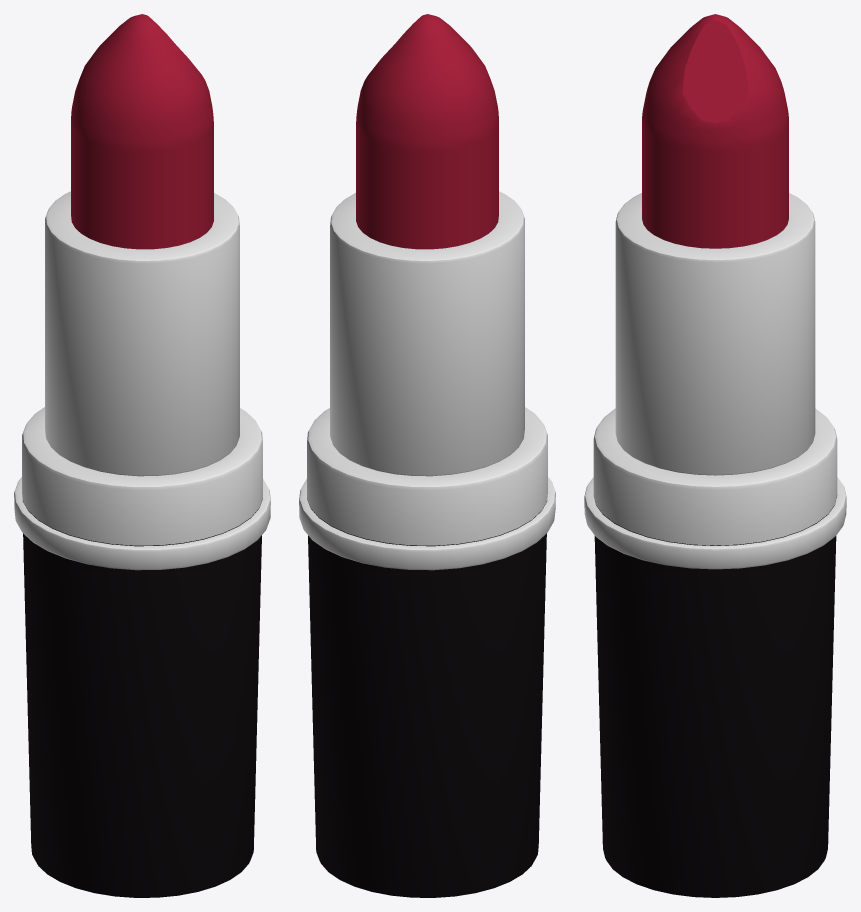
The model's file is LIPSTICK.fbx.
3 views of the same model, side by side, from view 1: azimuth 30°, elevation 25°; view 2: azimuth 150°, elevation 25°; view 3: azimuth 270°, elevation 25° (orthographic).
Parts seen in each view (by area): view 1: Lipstick; view 2: Lipstick; view 3: Lipstick.
Part boxes in pixels (<box>): Lipstick: <box>14,14,270,897</box>; Lipstick: <box>299,14,555,897</box>; Lipstick: <box>584,14,846,897</box>.
Bounding box in the file's own units: 20.77 × 75.2 × 21.34.
